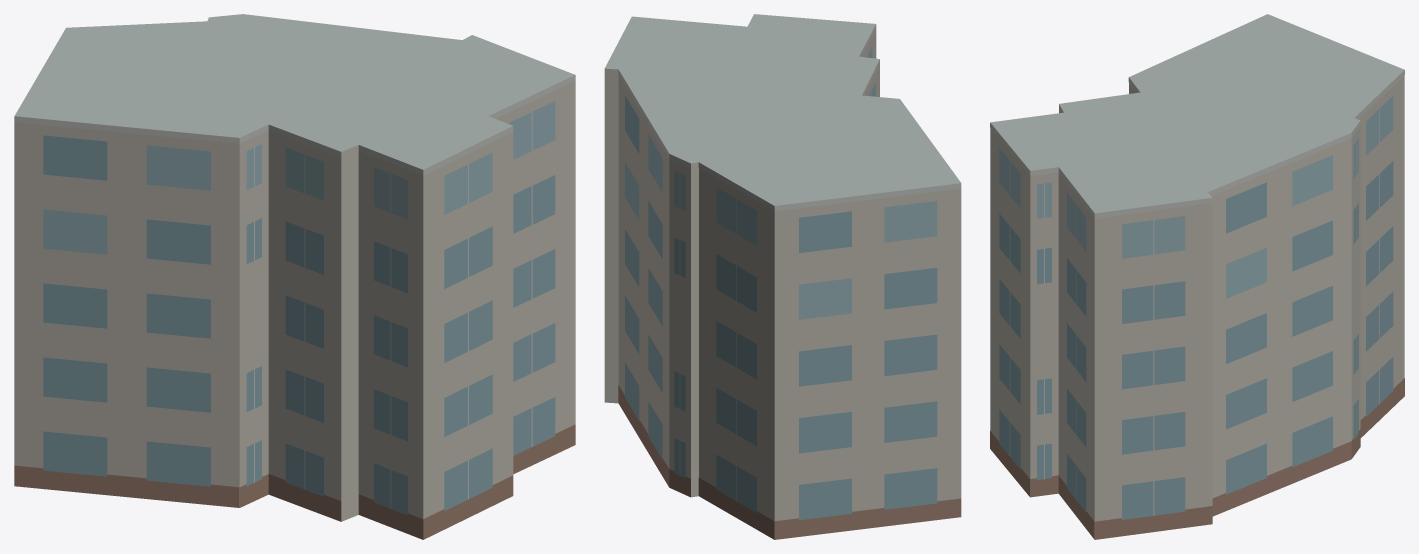
File: survey-upis-32875582.glb
The picture shows the model from 3 angles, left to right: view 1: azimuth 30°, elevation 25°; view 2: azimuth 150°, elevation 25°; view 3: azimuth 270°, elevation 25°; orthographic projection. The views are drawn at different scales.
Parts seen in each view (by area): view 1: survey-upis-32875582.tmp; view 2: survey-upis-32875582.tmp; view 3: survey-upis-32875582.tmp.
Boxes of the visible parts, x1,y1,x2,y2 form: survey-upis-32875582.tmp: [14, 14, 575, 539]; survey-upis-32875582.tmp: [604, 14, 961, 539]; survey-upis-32875582.tmp: [990, 14, 1404, 539].
Size of the model in its own units: 19.99 by 15.25 by 17.56.
